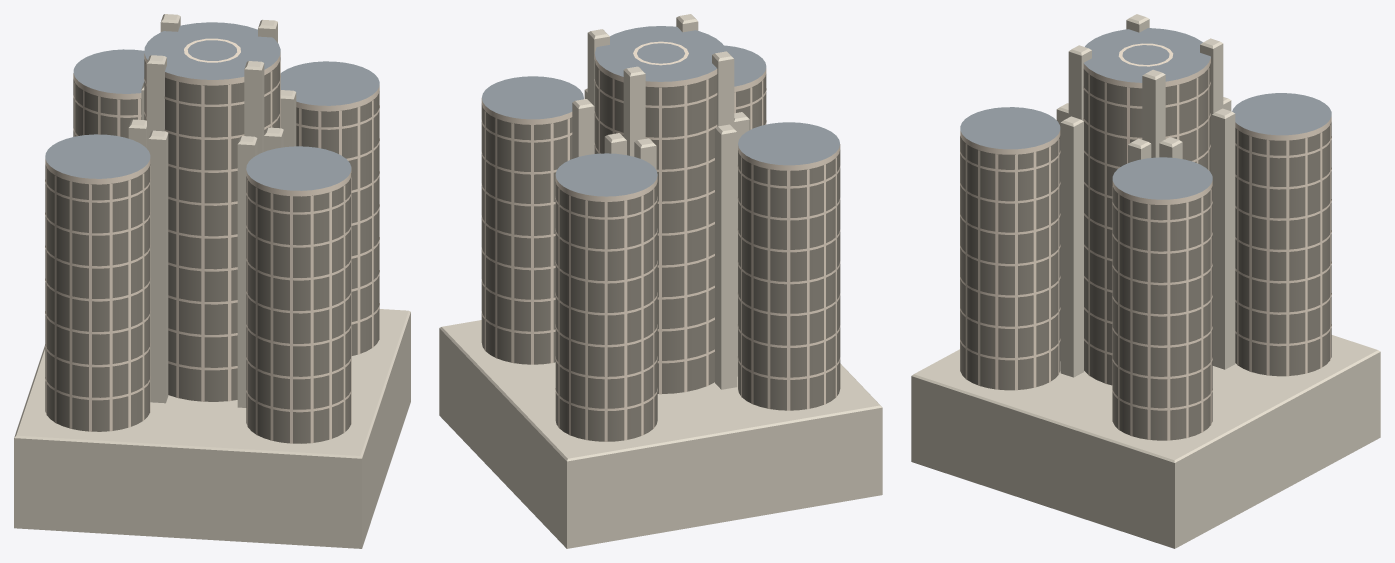
3 views of the same model, side by side, from view 1: azimuth 30°, elevation 25°; view 2: azimuth 150°, elevation 25°; view 3: azimuth 270°, elevation 25° (orthographic). The views are drawn at different scales.
Visible parts, largest first — view 1: westin-bonaventure-hotel; view 2: westin-bonaventure-hotel; view 3: westin-bonaventure-hotel.
Boxes of the visible parts, box(x1,y1,x2,y2) form: westin-bonaventure-hotel: box(14, 14, 410, 548); westin-bonaventure-hotel: box(439, 14, 882, 548); westin-bonaventure-hotel: box(911, 14, 1380, 548).
Size of the model in its own units: 126 by 120 by 126.
